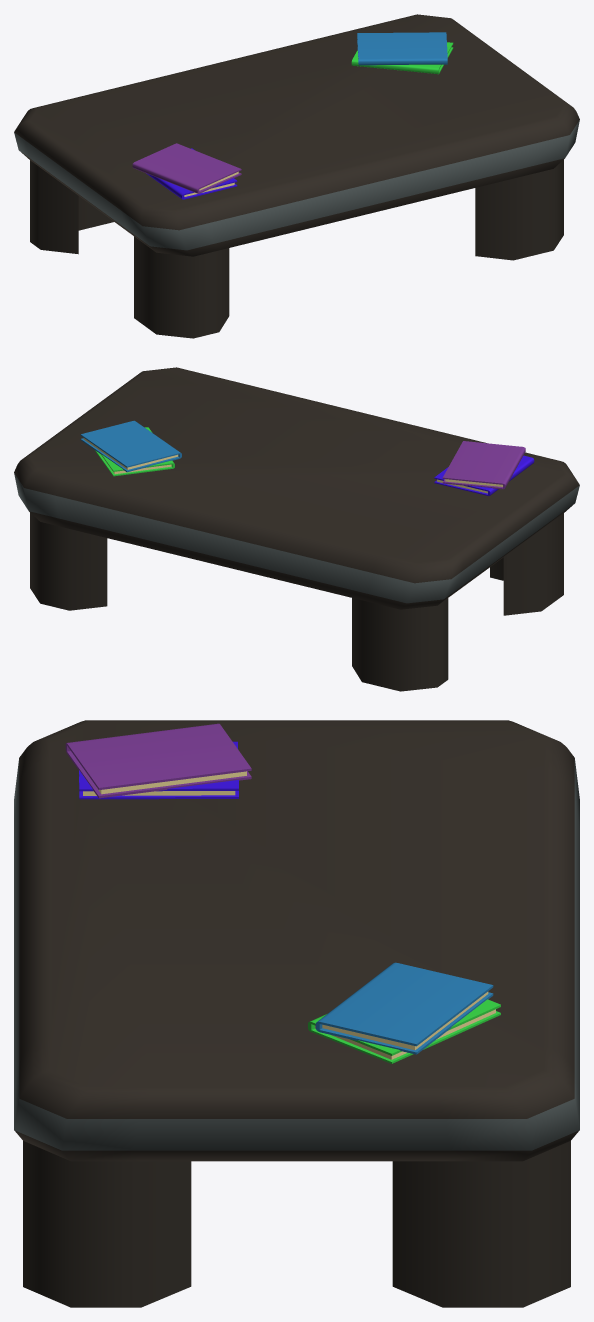
File: Boss-Room-Coffie-Table.fbx
The picture shows the model from 3 angles, top to bottom: view 1: azimuth 30°, elevation 25°; view 2: azimuth 150°, elevation 25°; view 3: azimuth 270°, elevation 25°; orthographic projection. The views are drawn at different scales.
Visible parts, largest first — view 1: Boss-Room-Coffie-Table, Book-2.149, Book-2.147, Book-2.146, Book-2.148; view 2: Boss-Room-Coffie-Table, Book-2.147, Book-2.149, Book-2.148, Book-2.146; view 3: Boss-Room-Coffie-Table, Book-2.149, Book-2.147, Book-2.146, Book-2.148.
Boxes of the visible parts, x1,y1,x2,y2 form: Boss-Room-Coffie-Table: [14, 14, 579, 338]; Book-2.149: [132, 143, 241, 193]; Book-2.147: [357, 32, 447, 65]; Book-2.146: [351, 42, 453, 74]; Book-2.148: [146, 148, 237, 199]; Boss-Room-Coffie-Table: [14, 367, 579, 691]; Book-2.147: [80, 420, 181, 472]; Book-2.149: [442, 441, 525, 489]; Book-2.148: [434, 455, 534, 495]; Book-2.146: [95, 427, 174, 476]; Boss-Room-Coffie-Table: [14, 720, 579, 1307]; Book-2.149: [65, 723, 251, 798]; Book-2.147: [315, 962, 493, 1054]; Book-2.146: [308, 999, 500, 1063]; Book-2.148: [79, 741, 238, 799].
Bounding box in the file's own units: 2.05 × 0.6151 × 1.29.
